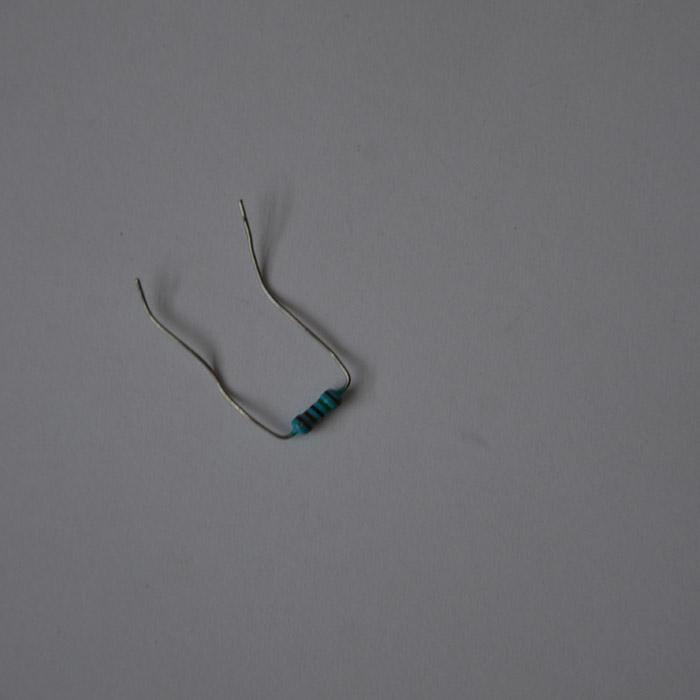resistor: (288, 385, 349, 437)
